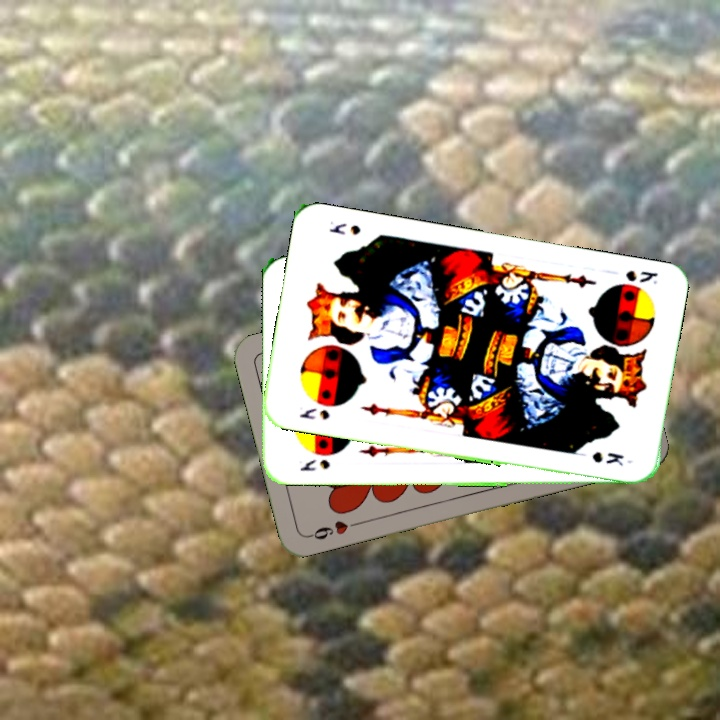H9: (304, 516, 362, 542)
SK: (621, 266, 661, 287), (295, 404, 332, 422), (296, 456, 332, 474)
